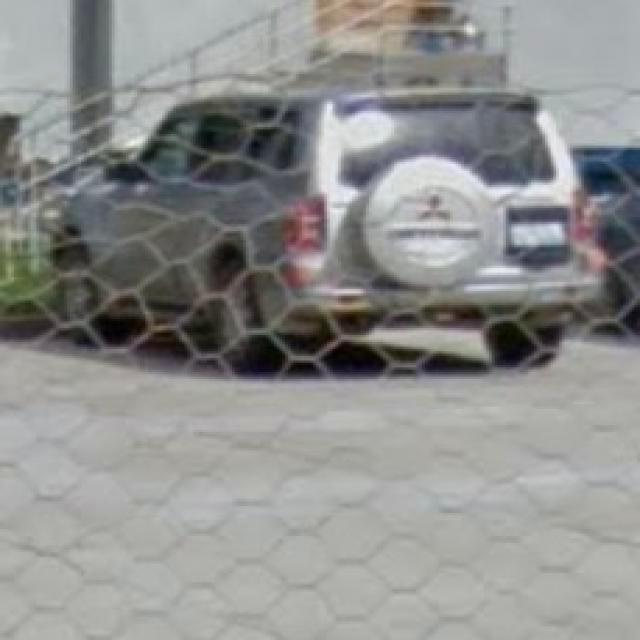Car: (32, 65, 592, 376)
